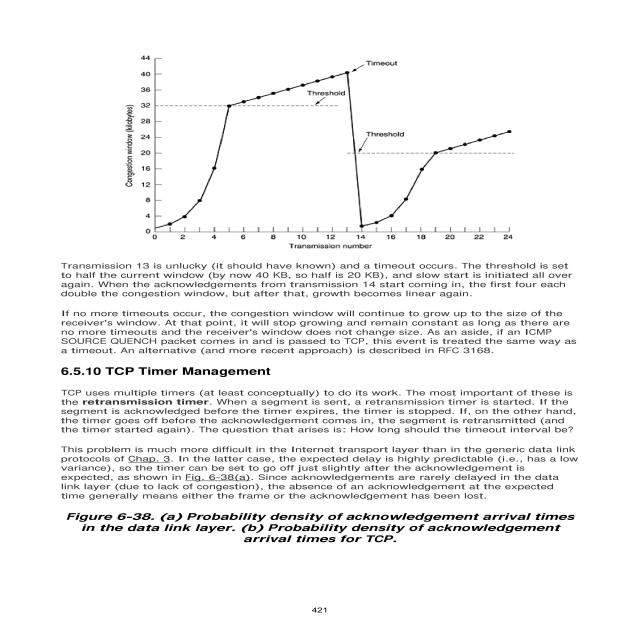diagram: (97, 30, 522, 250)
